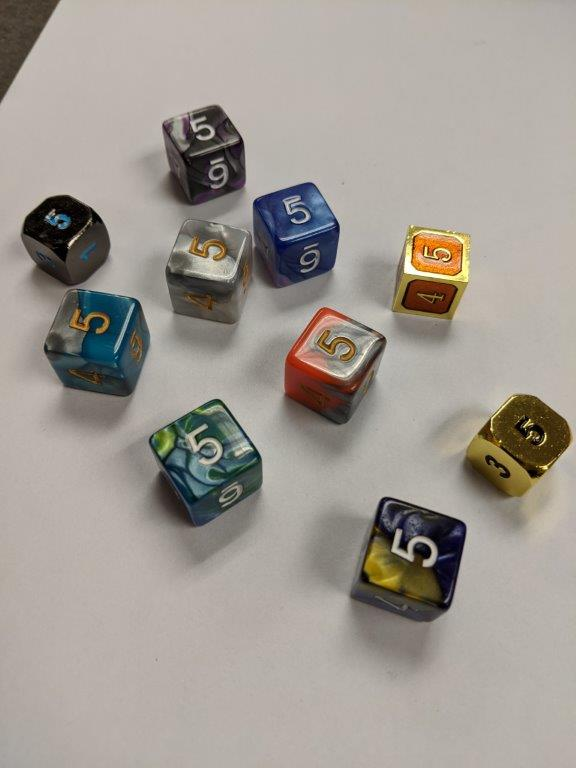d6-5: (146, 398, 265, 529), (352, 495, 464, 622), (285, 308, 387, 424), (44, 287, 148, 397), (465, 394, 570, 498), (163, 217, 252, 324), (253, 181, 339, 286), (156, 102, 246, 200), (20, 195, 114, 284), (389, 222, 472, 322)
